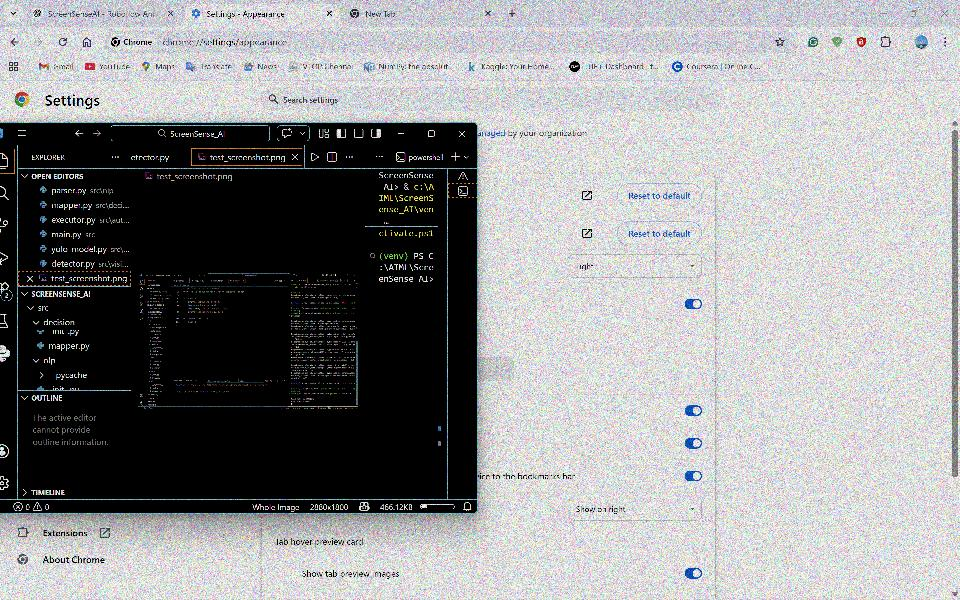close_button: (934, 4, 955, 24), (455, 127, 472, 142)
maximize_button: (903, 3, 926, 24), (422, 125, 441, 141)
minimize_button: (867, 3, 897, 24), (393, 125, 409, 142)
